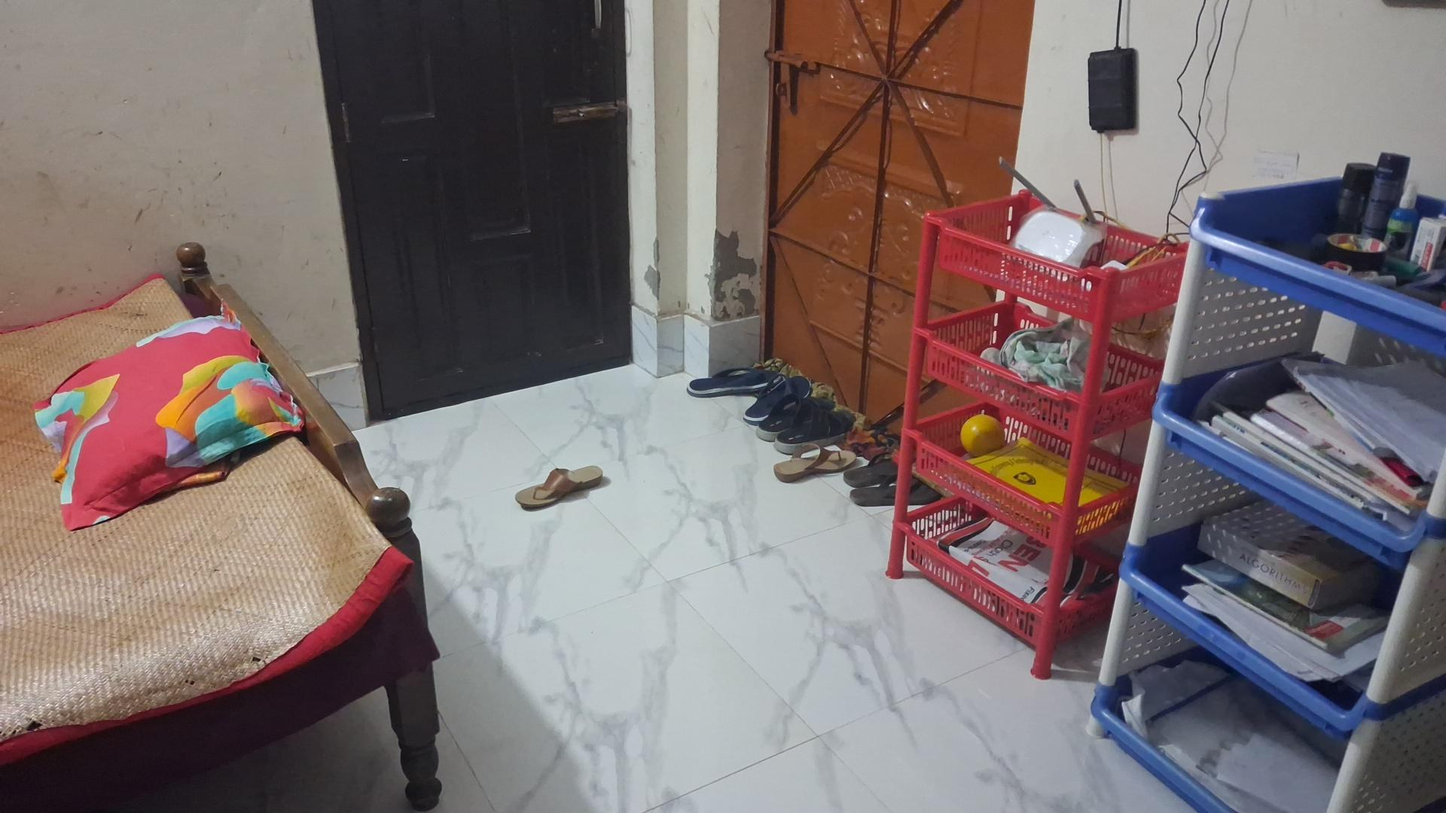Book: (1195, 497, 1381, 612)
Footwear: (685, 364, 813, 424), (757, 392, 855, 455), (512, 463, 607, 515), (770, 449, 862, 484)
Pillow: (29, 310, 293, 527)
Rack: (1084, 180, 1446, 813), (892, 187, 1188, 674), (1259, 158, 1271, 165)
